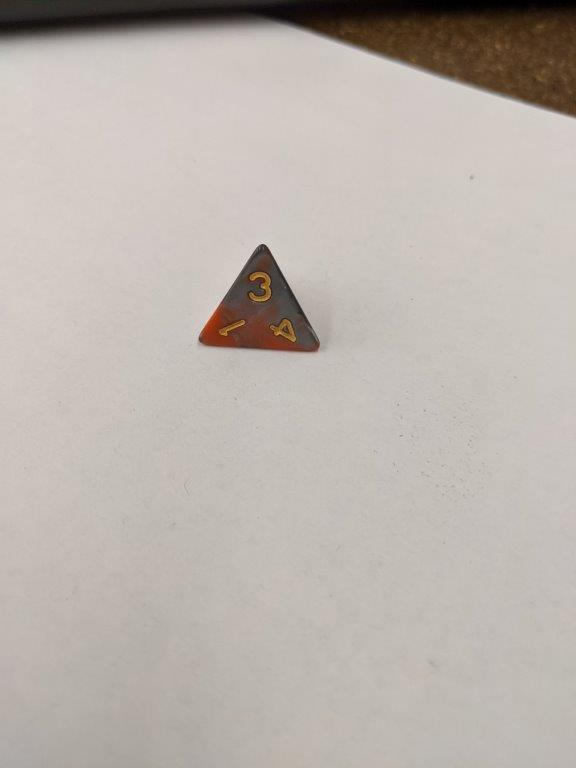d4-3: (189, 241, 327, 359)
